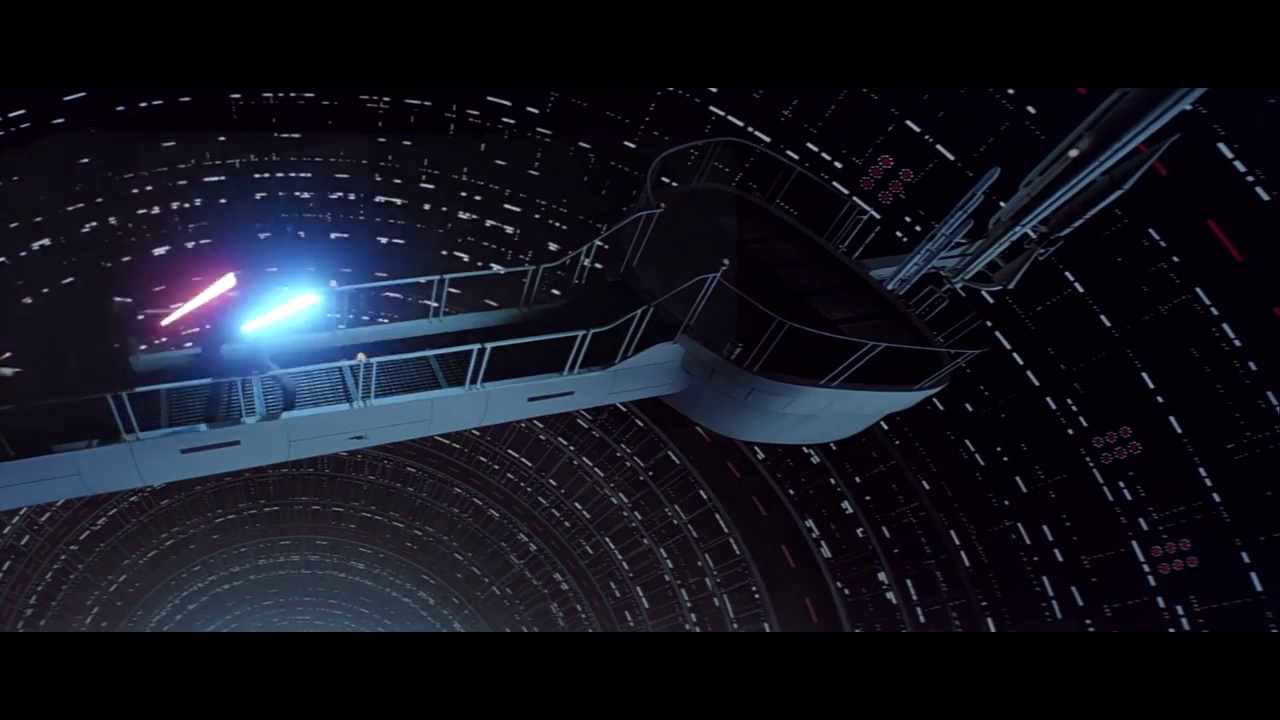lightsaber: (149, 264, 238, 336), (230, 285, 325, 343)
